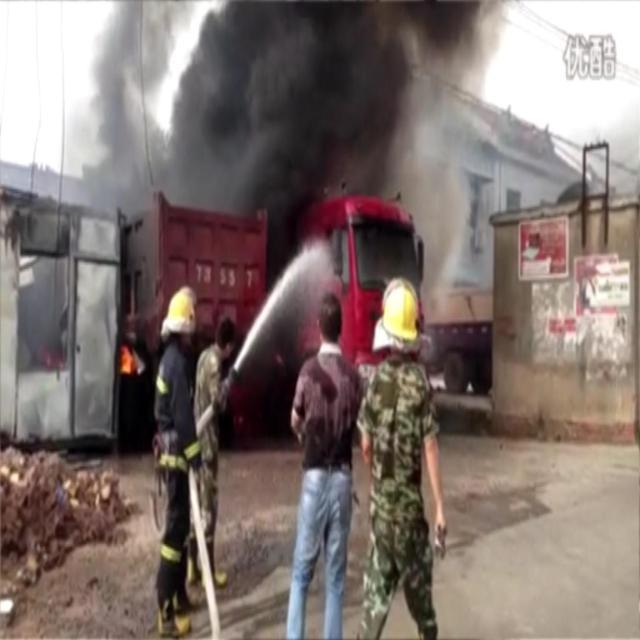Fire: (117, 340, 136, 376)
Smoke: (79, 1, 512, 363)
